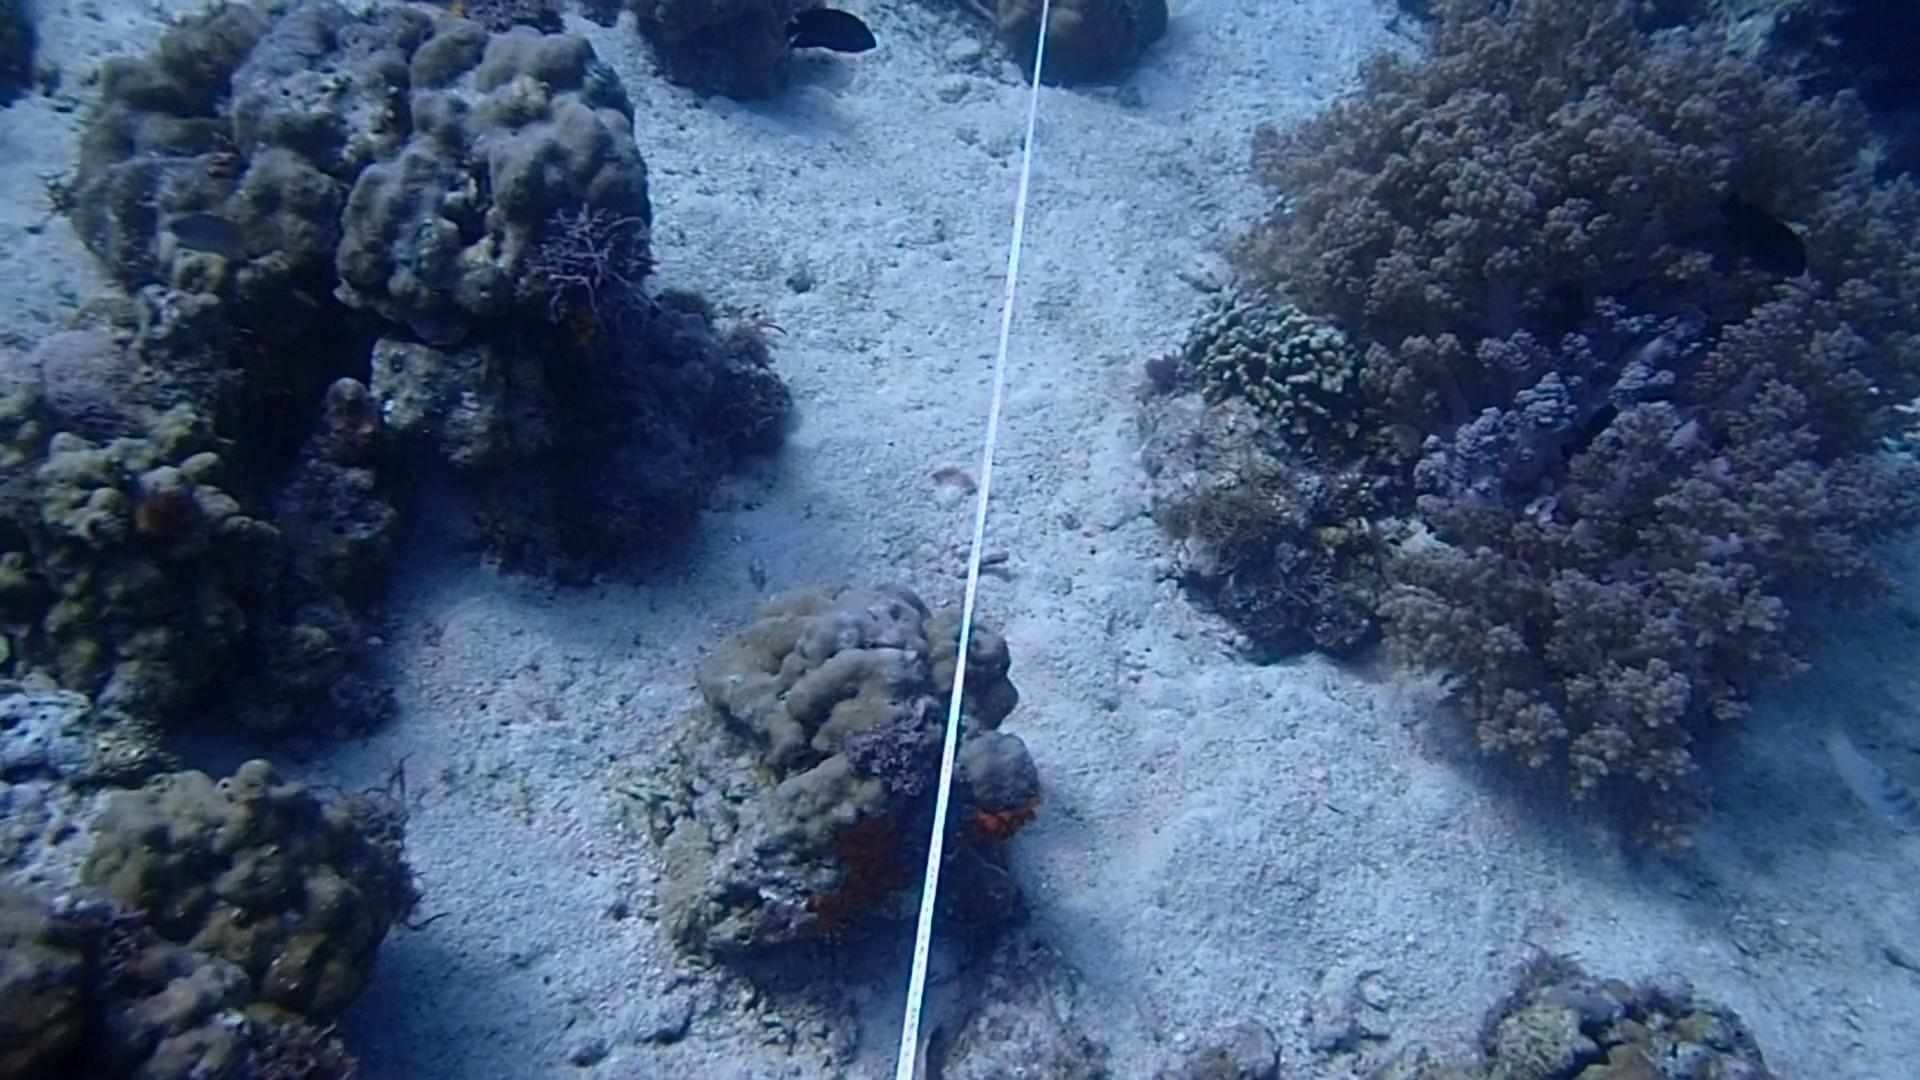Dark Fish: (1714, 185, 1811, 287), (1523, 396, 1631, 467), (783, 3, 885, 65)
Light Fish w Back Stripes: (1833, 736, 1920, 827)
